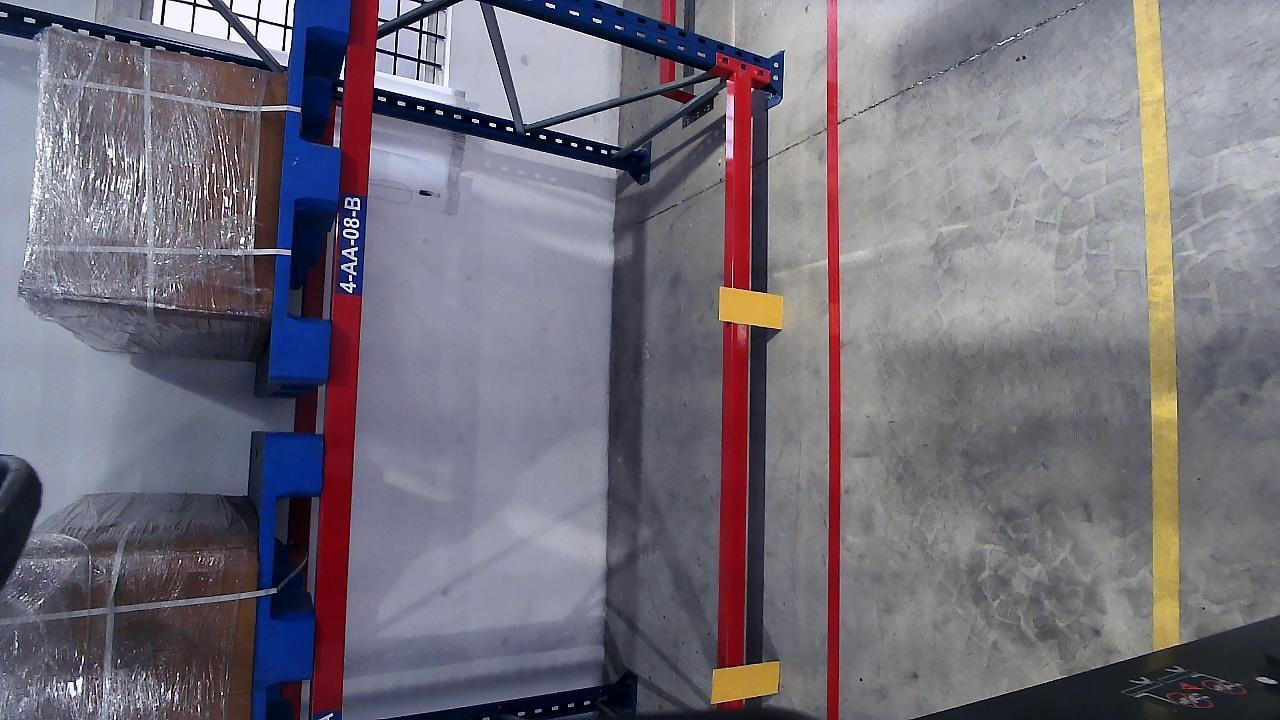red_line: (822, 0, 844, 713)
yellow_line: (1148, 0, 1181, 647)
